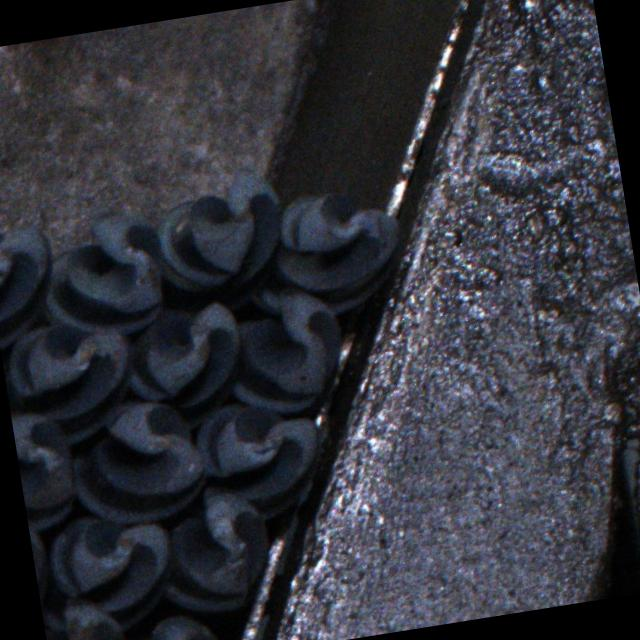tool_b: (240, 180, 412, 324), (66, 392, 214, 532), (148, 170, 293, 312), (0, 314, 141, 451), (218, 282, 352, 422), (42, 506, 182, 640), (189, 392, 328, 526), (122, 296, 255, 434), (34, 216, 174, 346), (151, 484, 279, 620), (11, 408, 82, 532), (0, 216, 60, 347), (40, 589, 127, 640), (120, 610, 228, 640)
